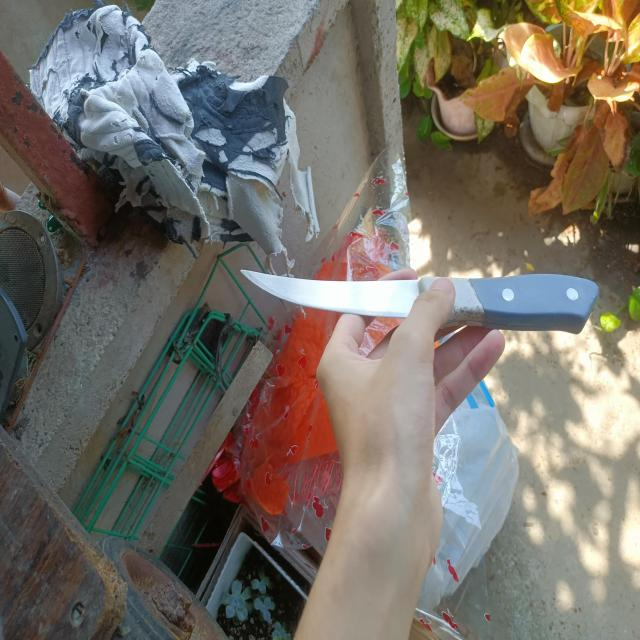knife: (241, 270, 598, 334)
